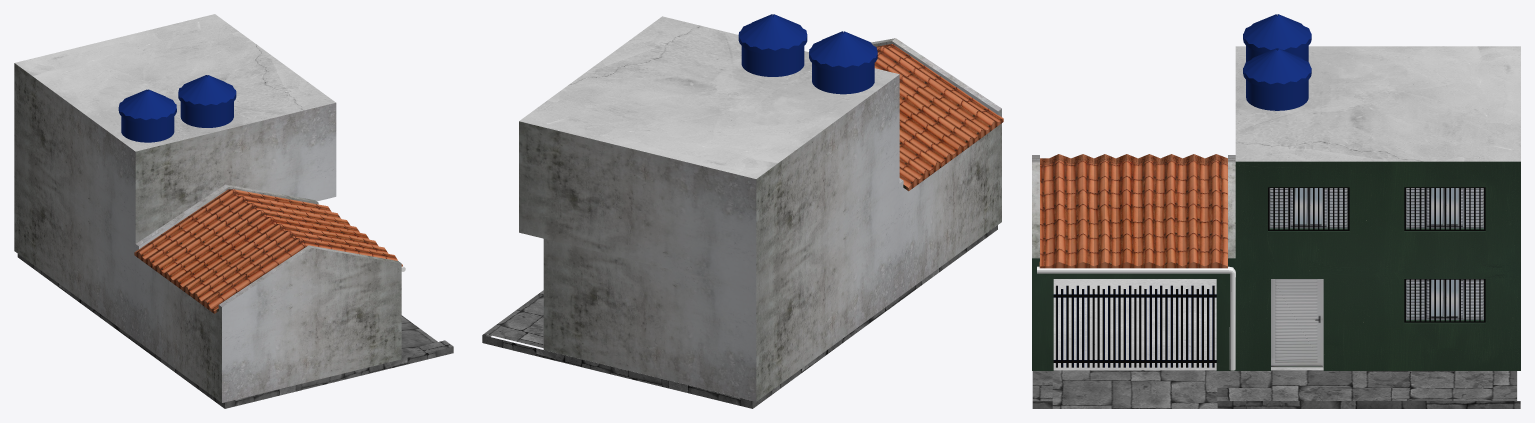
The model's file is casa_comum_brasileira_-_bairro_-_gratis_-.glb.
3 renders of one model, left to right at view 1: azimuth 30°, elevation 25°; view 2: azimuth 150°, elevation 25°; view 3: azimuth 270°, elevation 25°, orthographic. The views are drawn at different scales.
Visible parts, largest first — view 1: casa_simples, techado_casa, calcada_casa, caixa_agua, caixa_agua.001; view 2: casa_simples, techado_casa, calcada_casa, caixa_agua.001, caixa_agua; view 3: casa_simples, calcada_casa, techado_casa, caixa_agua.001, caixa_agua, cano_casa.
Boxes of the visible parts, x1,y1,x2,y2 form: casa_simples: (14,14,401,402); techado_casa: (134,189,402,313); calcada_casa: (17,254,453,408); caixa_agua: (118,89,176,142); caixa_agua.001: (178,75,236,127); casa_simples: (519,16,1001,401); techado_casa: (874,44,1003,191); calcada_casa: (482,225,997,408); caixa_agua.001: (738,14,807,76); caixa_agua: (809,31,877,94); casa_simples: (1032,46,1520,370); calcada_casa: (1032,279,1520,408); techado_casa: (1039,154,1227,268); caixa_agua.001: (1243,48,1311,110); caixa_agua: (1243,14,1311,61); cano_casa: (1037,266,1235,370).
Size of the model in its own units: 7.88 by 7.54 by 12.01.
4 materials, 3 textured.
